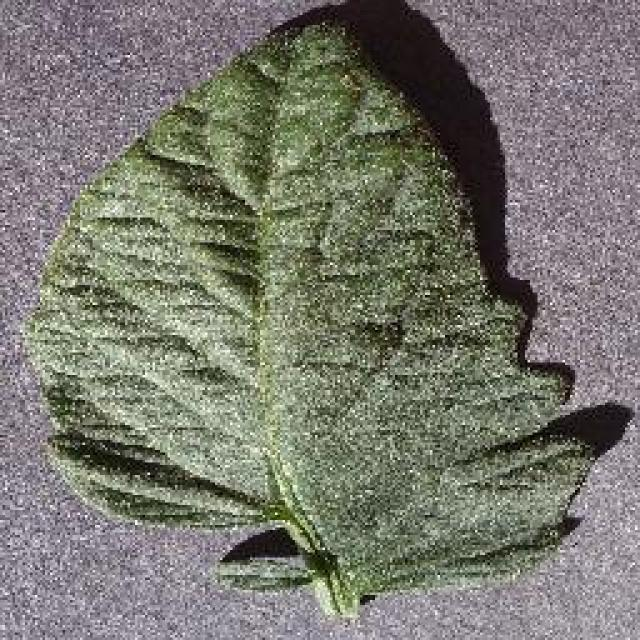Tomato healthy leaf: (34, 10, 586, 620)
